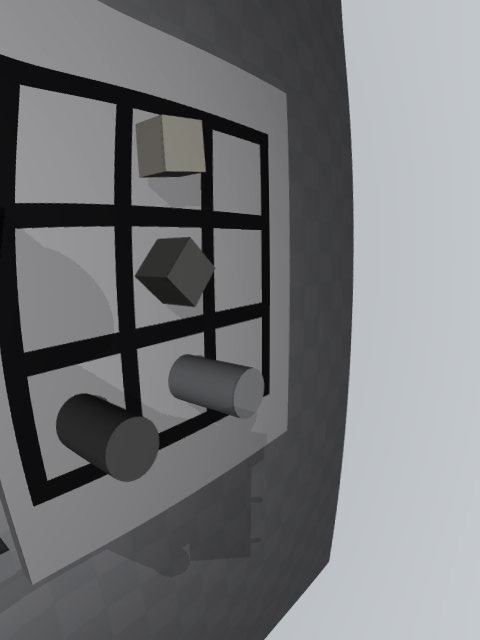can: (168, 354, 264, 419)
cube: (135, 237, 215, 307)
cylinder: (56, 394, 160, 482)
foam: (135, 115, 206, 178)
